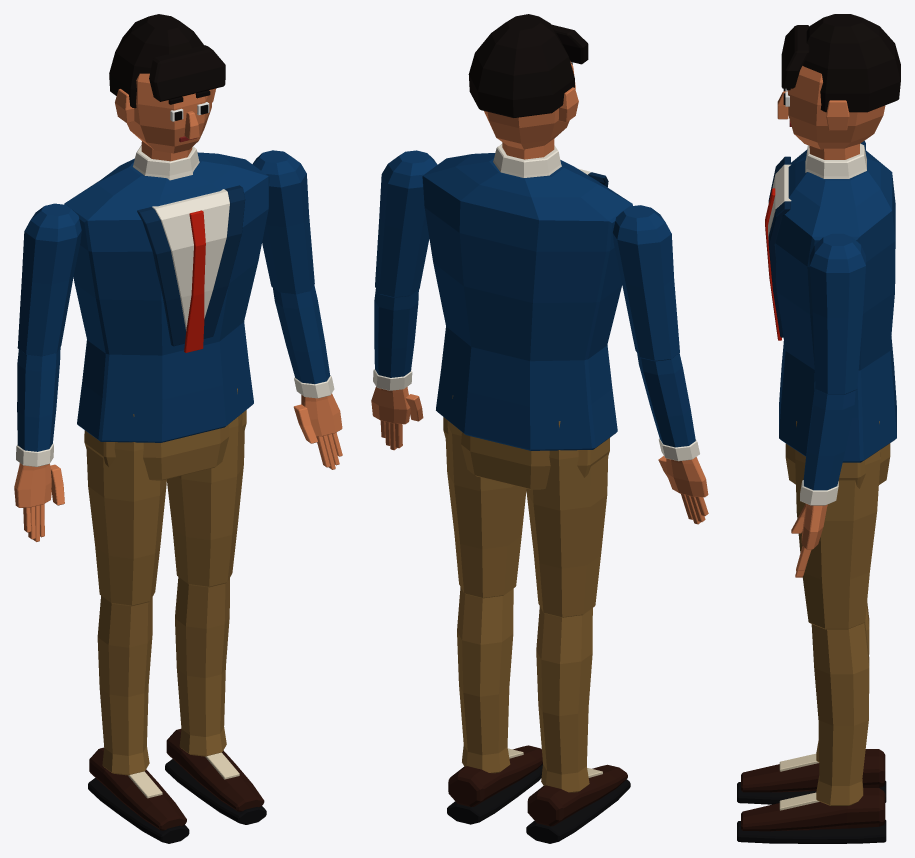
The model's file is WL_Human_Adult_A.obj.
3 renders of one model, left to right at view 1: azimuth 30°, elevation 25°; view 2: azimuth 150°, elevation 25°; view 3: azimuth 270°, elevation 25°, orthographic. The views are drawn at different scales.
Visible parts, largest first — view 1: WL_Human_Adult_A_Torso, WL_Human_Adult_A_Leg_Upper_R, WL_Human_Adult_A_Leg_Lower_R, WL_Human_Adult_A_Leg_Lower_L, WL_Human_Adult_A_Leg_Upper_L, WL_Human_Adult_A_Arm_Upper_R, WL_Human_Adult_A_Hair, WL_Human_Adult_A_Arm_Upper_L, WL_Human_Adult_A_Lapels, WL_Human_Adult_A_ShirtFront, WL_Human_Adult_A_Arm_Lower_R, WL_Human_Adult_A_Hips (+10 smaller); view 2: WL_Human_Adult_A_Torso, WL_Human_Adult_A_Leg_Upper_R, WL_Human_Adult_A_Hair, WL_Human_Adult_A_Leg_Lower_L, WL_Human_Adult_A_Leg_Lower_R, WL_Human_Adult_A_Leg_Upper_L, WL_Human_Adult_A_Arm_Upper_R, WL_Human_Adult_A_Arm_Upper_L, WL_Human_Adult_A_Hips, WL_Human_Adult_A_Arm_Lower_R, WL_Human_Adult_A_Arm_Lower_L, WL_Human_Adult_A_Shoe_R (+7 smaller); view 3: WL_Human_Adult_A_Torso, WL_Human_Adult_A_Leg_Upper_L, WL_Human_Adult_A_Leg_Lower_L, WL_Human_Adult_A_Hair, WL_Human_Adult_A_Arm_Upper_L, WL_Human_Adult_A_Shoe_L, WL_Human_Adult_A_Arm_Lower_L, WL_Human_Adult_A_Head, WL_Human_Adult_A_Shoe_R, WL_Human_Adult_A_Sole_L, WL_Human_Adult_A_Hand_L, WL_Human_Adult_A_Collar (+10 smaller).
Part boxes in pixels (<box>): WL_Human_Adult_A_Torso: <box>64,152,269,442</box>; WL_Human_Adult_A_Leg_Upper_R: <box>86,414,166,606</box>; WL_Human_Adult_A_Leg_Lower_R: <box>97,596,152,775</box>; WL_Human_Adult_A_Leg_Lower_L: <box>175,577,229,756</box>; WL_Human_Adult_A_Leg_Upper_L: <box>167,388,244,587</box>; WL_Human_Adult_A_Arm_Upper_R: <box>17,203,81,356</box>; WL_Human_Adult_A_Hair: <box>109,14,225,108</box>; WL_Human_Adult_A_Arm_Upper_L: <box>252,150,314,294</box>; WL_Human_Adult_A_Lapels: <box>137,185,245,346</box>; WL_Human_Adult_A_ShirtFront: <box>152,189,229,330</box>; WL_Human_Adult_A_Arm_Lower_R: <box>17,347,60,451</box>; WL_Human_Adult_A_Hips: <box>84,410,246,480</box>; WL_Human_Adult_A_Torso: <box>422,153,632,450</box>; WL_Human_Adult_A_Leg_Upper_R: <box>526,421,608,617</box>; WL_Human_Adult_A_Hair: <box>468,14,588,117</box>; WL_Human_Adult_A_Leg_Lower_L: <box>457,587,513,773</box>; WL_Human_Adult_A_Leg_Lower_R: <box>536,606,592,792</box>; WL_Human_Adult_A_Leg_Upper_L: <box>445,395,526,598</box>; WL_Human_Adult_A_Arm_Upper_R: <box>612,205,679,361</box>; WL_Human_Adult_A_Arm_Upper_L: <box>375,150,437,297</box>; WL_Human_Adult_A_Hips: <box>443,417,609,489</box>; WL_Human_Adult_A_Arm_Lower_R: <box>637,353,695,447</box>; WL_Human_Adult_A_Arm_Lower_L: <box>374,289,418,377</box>; WL_Human_Adult_A_Shoe_R: <box>527,764,627,826</box>; WL_Human_Adult_A_Torso: <box>775,149,896,462</box>; WL_Human_Adult_A_Leg_Upper_L: <box>795,421,880,629</box>; WL_Human_Adult_A_Leg_Lower_L: <box>811,622,869,805</box>; WL_Human_Adult_A_Hair: <box>781,14,900,112</box>; WL_Human_Adult_A_Arm_Upper_L: <box>809,233,865,394</box>; WL_Human_Adult_A_Shoe_L: <box>741,788,885,831</box>; WL_Human_Adult_A_Arm_Lower_L: <box>803,386,855,490</box>; WL_Human_Adult_A_Head: <box>788,66,885,149</box>; WL_Human_Adult_A_Shoe_R: <box>741,749,885,792</box>; WL_Human_Adult_A_Sole_L: <box>737,820,886,843</box>; WL_Human_Adult_A_Hand_L: <box>791,503,827,577</box>; WL_Human_Adult_A_Collar: <box>805,143,866,178</box>.
Size of the model in its own units: 0.7975 by 1.82 by 0.338.
